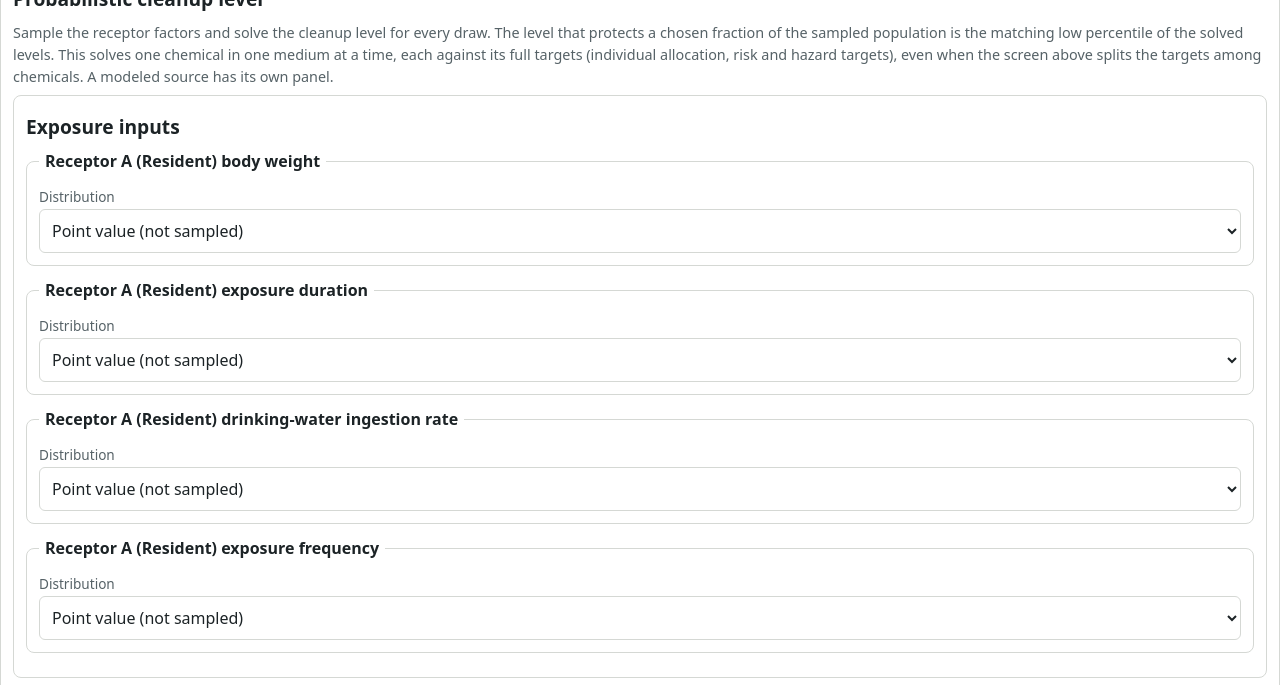
Test: CleanupUncertainty › asks before a run projected above 60 s and stops when declined
Select "Uniform" in the dropdown labelled "Distribution" below "Receptor A (Resident) body weight" at x=640, y=231, box [39,209,1241,253]
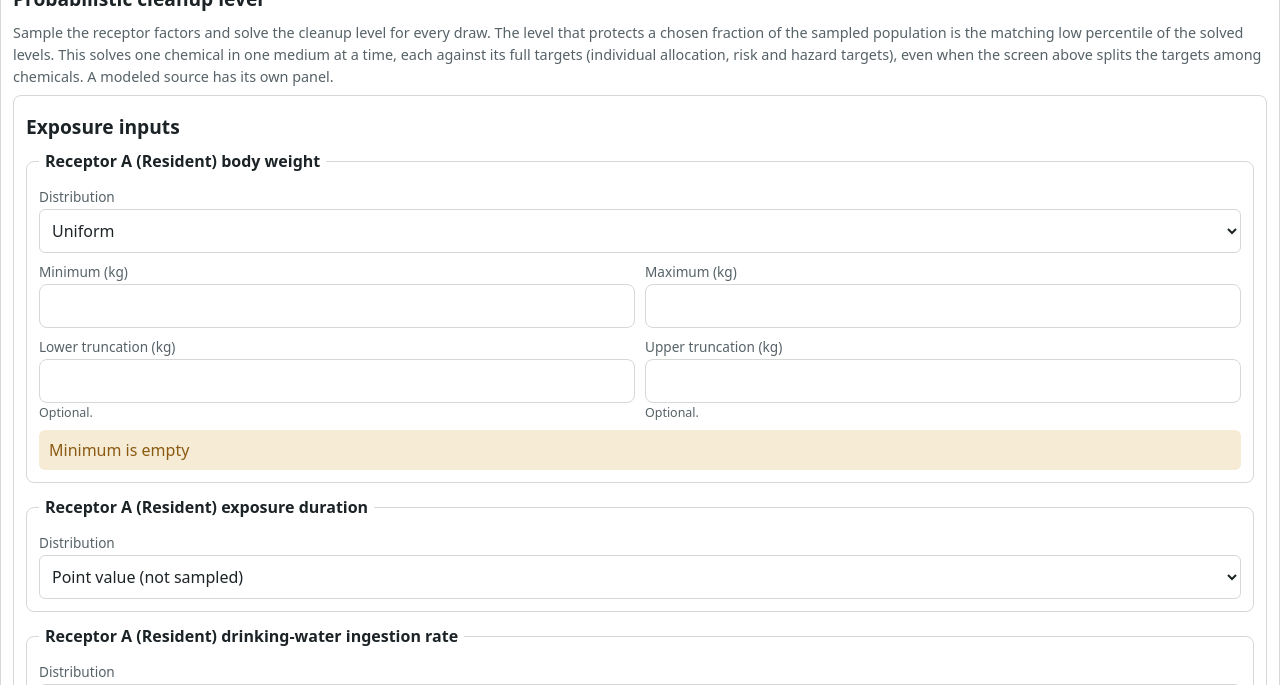
Type "50" into the field labelled "Minimum (kg)".
click(337, 306); type("50")  # box [39,284,635,328]
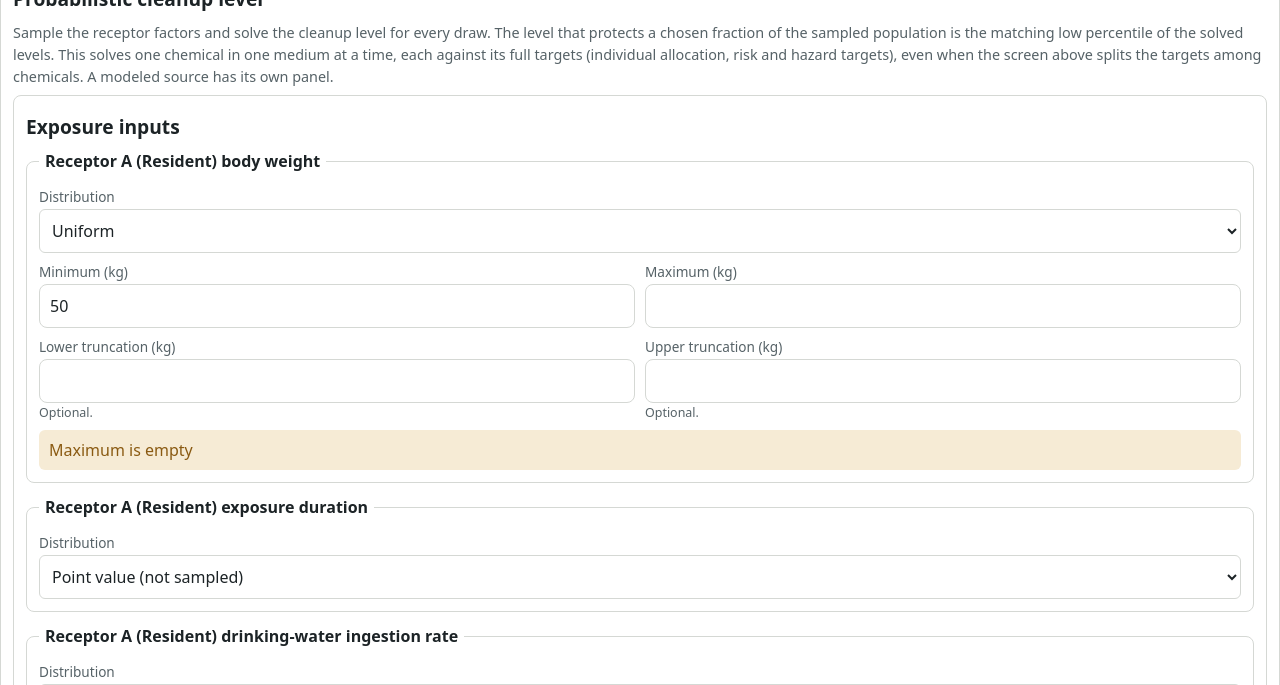
Type "100" into the field labelled "Maximum (kg)".
click(943, 306); type("100")  # box [645,284,1241,328]
(page scrolled)
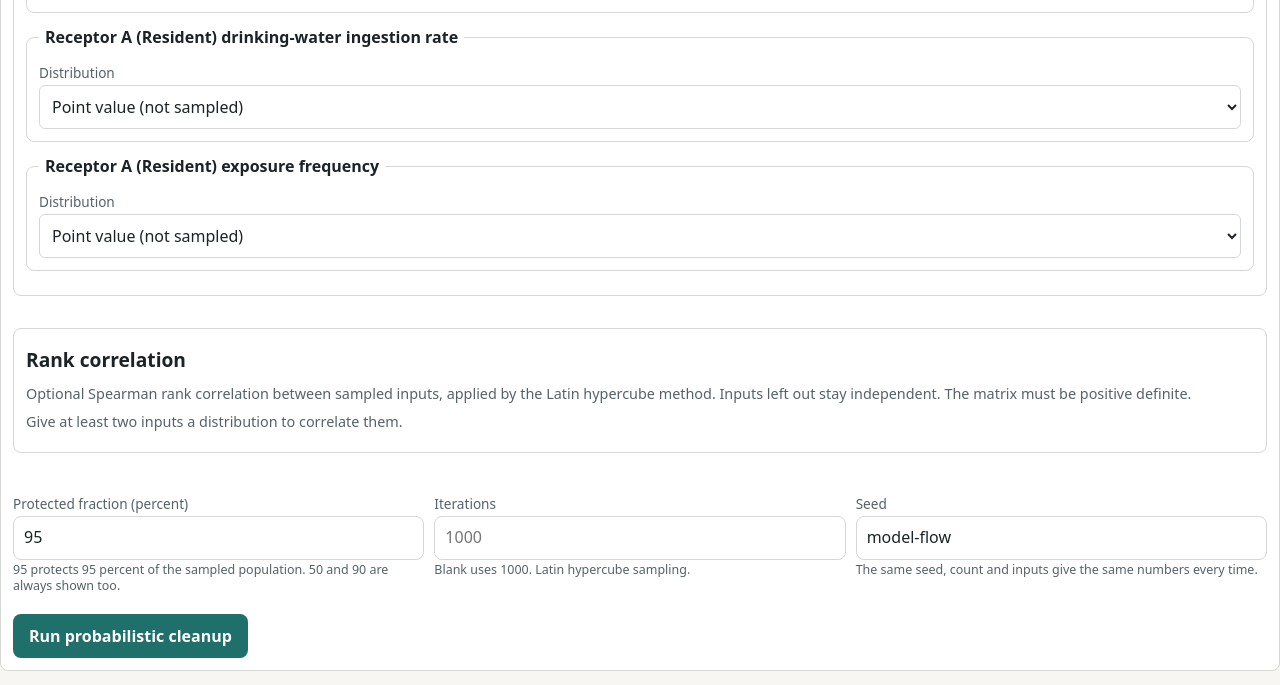
Type "500" into the field labelled "Iterations Blank uses 1000. Latin hypercube sampling.".
click(640, 538); type("500")  # box [434,516,846,560]
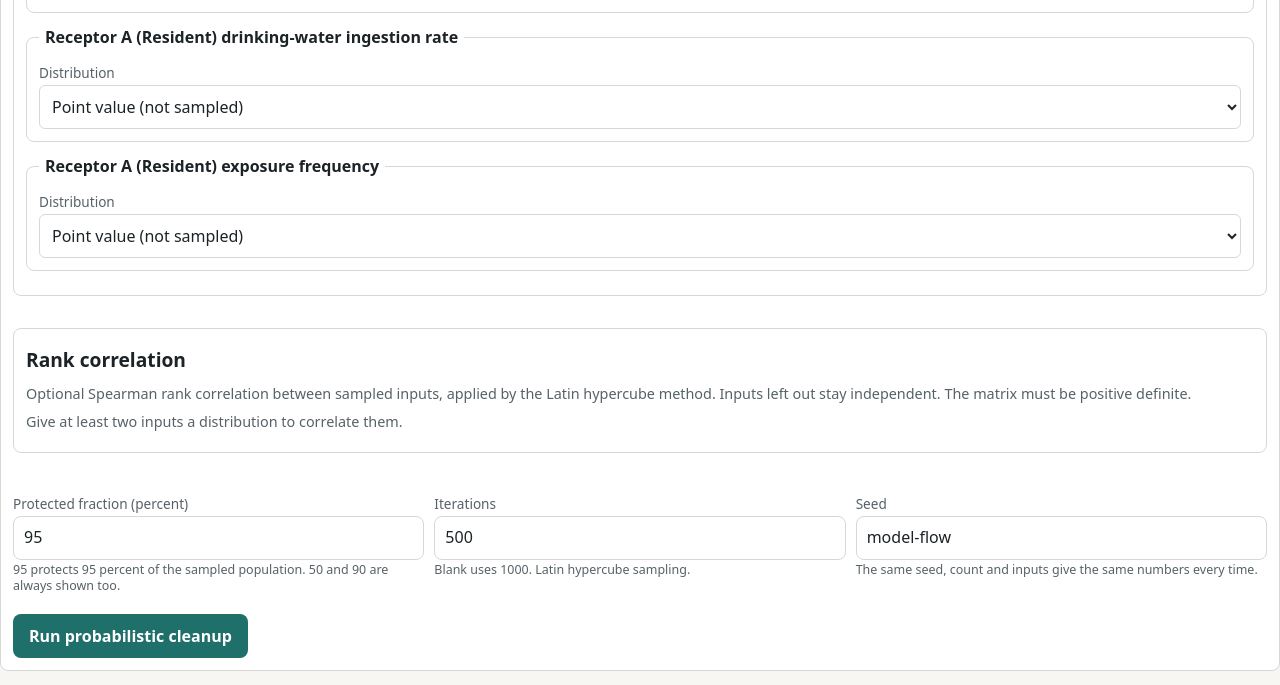
Click the button "Run probabilistic cleanup".
click(130, 636)  # box [13,614,248,658]
(page scrolled)
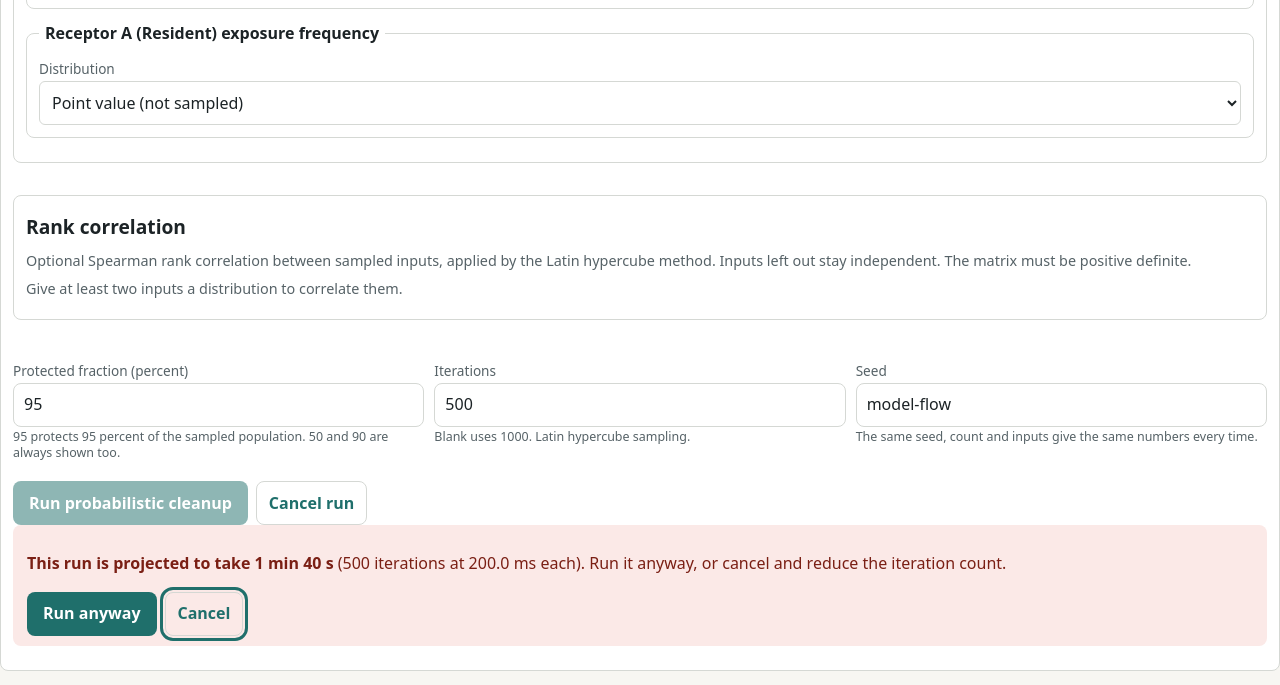
Click the button "Cancel".
click(204, 614)  # box [164,592,243,636]
(page scrolled)
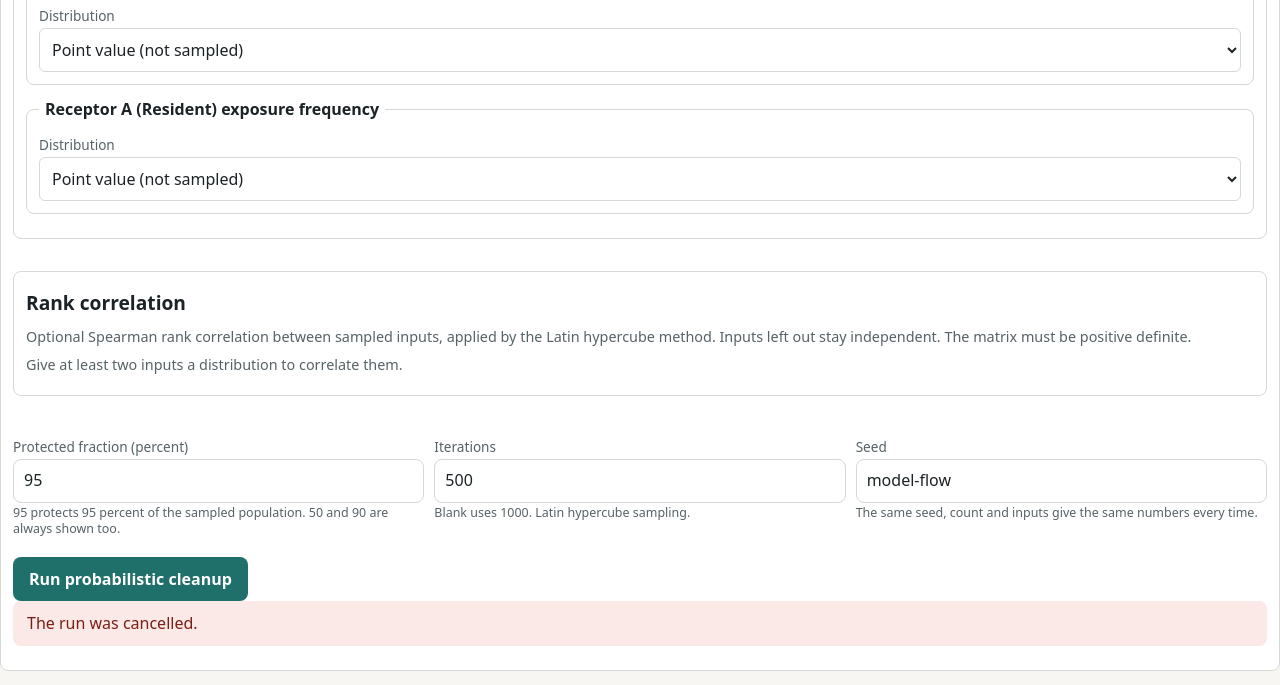
Result: the text "The run was cancelled." is shown at [13,601,1267,646]
